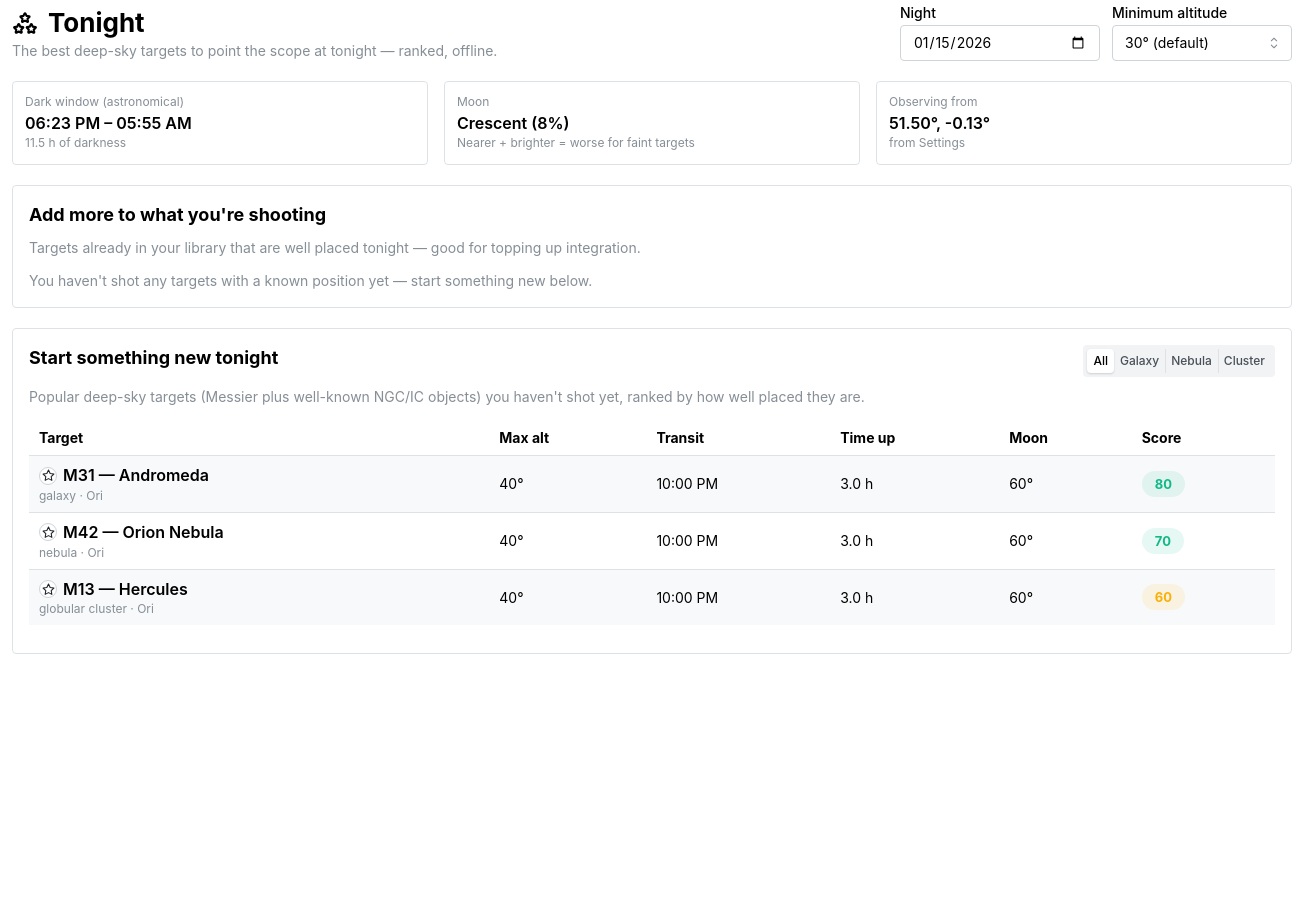
Scenario: TonightView › filters 'start something new' by object type
Expected: the heading "Start something new tonight" is shown, [29,345,278,371]
Expected: the text "M31 — Andromeda" is shown, [63,464,209,488]
Note: Picking "Nebula" keeps only the nebula.
Click the radio button labelled "Nebula".
click(1192, 360)  # box [1171,353,1212,368]
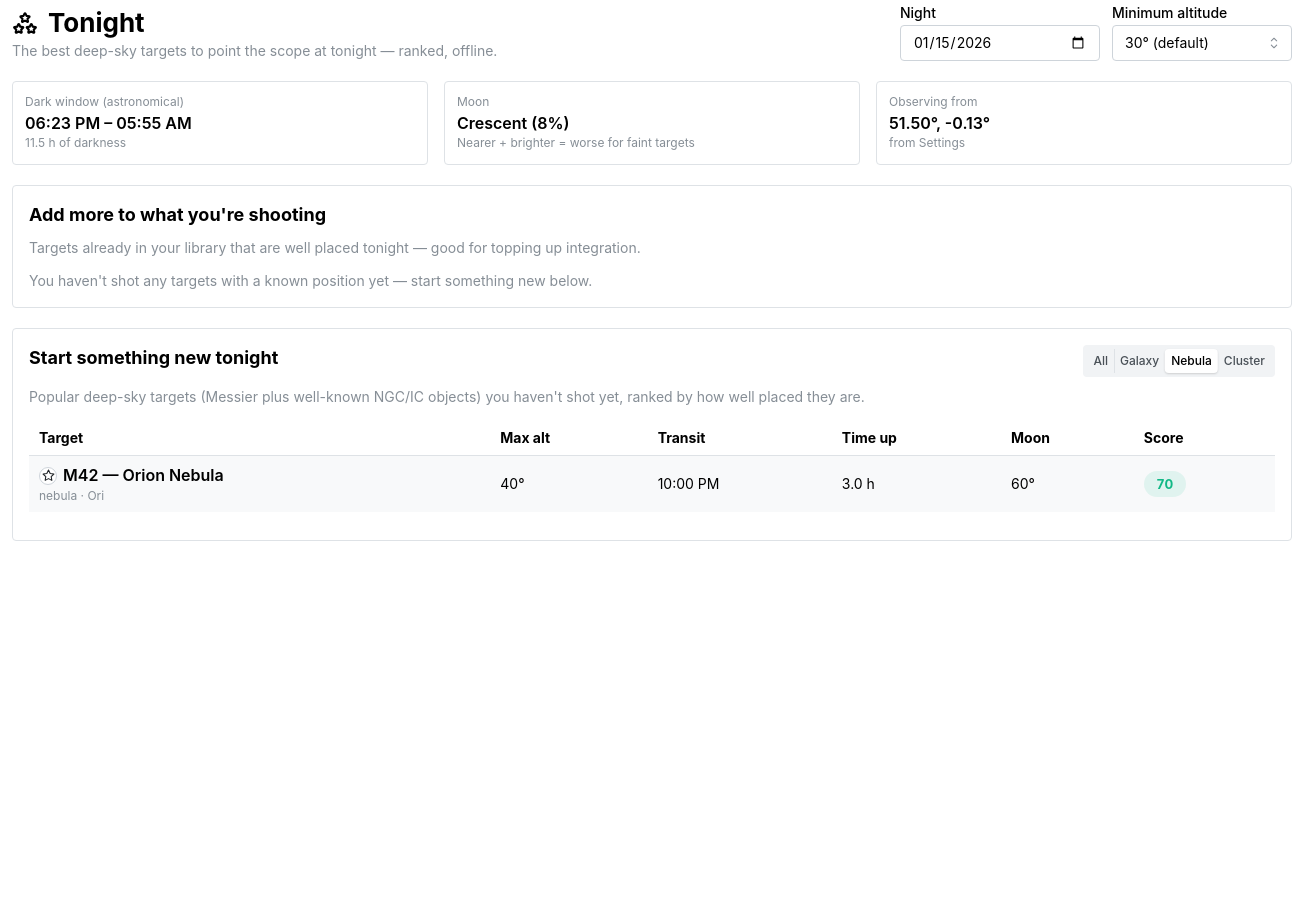
Expected: the text "M42 — Orion Nebula" is shown, [63,464,224,488]
Now the text "M31" is gone
Now the text "M13" is gone
